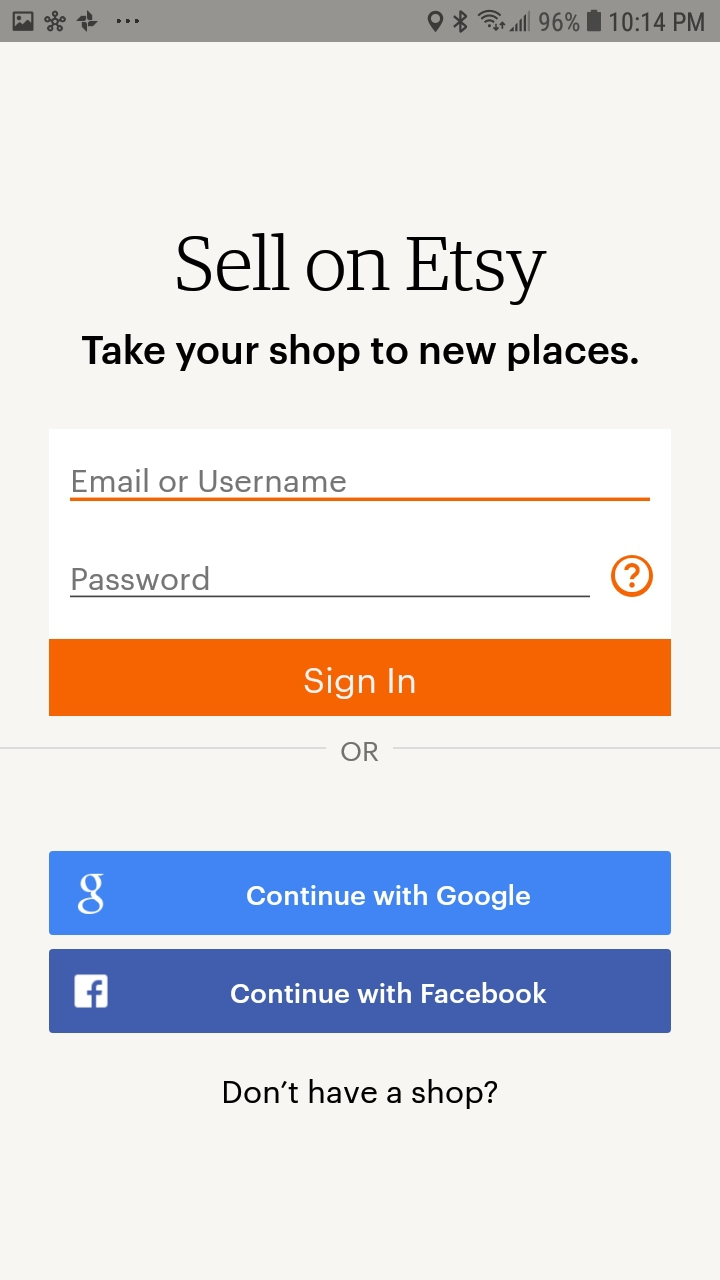EditText: (70, 468, 651, 503), (70, 566, 591, 599)
Icon: (610, 554, 654, 598)
Text: (177, 233, 548, 307), (82, 335, 639, 373), (224, 1079, 498, 1110), (73, 467, 347, 493), (73, 566, 210, 592), (340, 741, 379, 762)
TextButton: (49, 851, 671, 936), (49, 949, 671, 1034), (50, 639, 672, 717)
UpperTaskBar: (1, 1, 720, 43)
